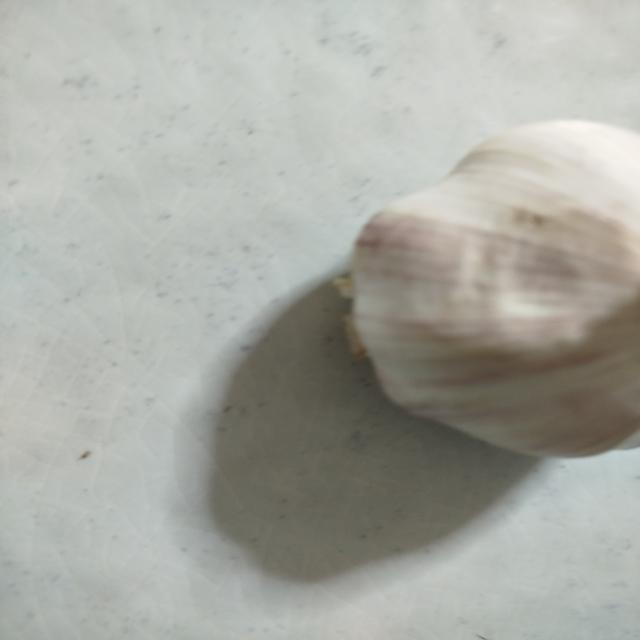garlic: (333, 118, 639, 459)
